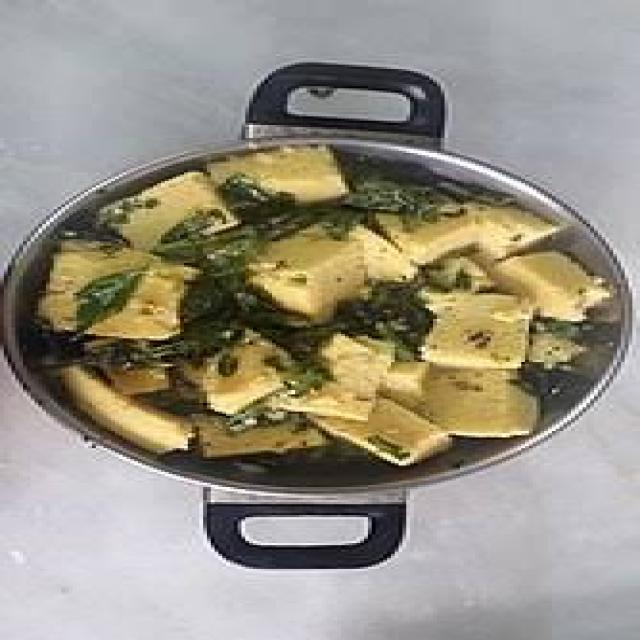DHOKLA: (221, 223, 372, 334), (40, 240, 181, 335), (378, 199, 555, 264), (63, 371, 192, 456), (90, 170, 240, 243), (214, 143, 350, 223), (183, 323, 302, 412), (389, 372, 556, 435), (267, 339, 393, 418), (415, 296, 530, 370), (489, 253, 606, 324), (311, 408, 449, 466), (203, 418, 335, 457)
